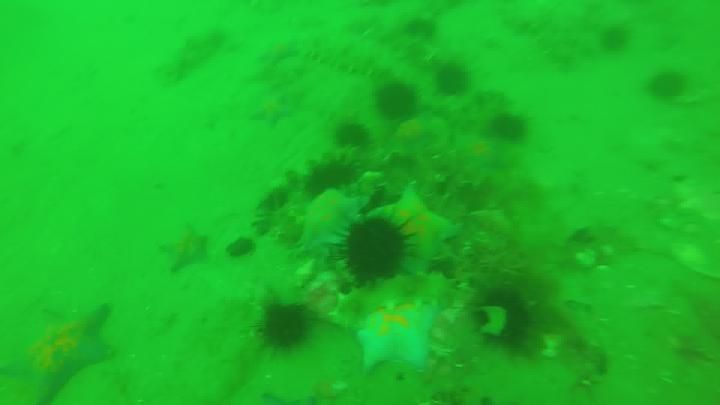echinus: (333, 217, 413, 286), (471, 288, 537, 344), (252, 304, 313, 355), (304, 159, 357, 203), (372, 80, 421, 120), (490, 110, 526, 147), (647, 70, 689, 95), (437, 62, 471, 92), (403, 15, 440, 42), (335, 122, 370, 147), (602, 27, 632, 45)
holothurian: (331, 277, 460, 330), (499, 7, 576, 64), (303, 38, 391, 80)
starfish: (1, 304, 115, 405), (367, 188, 456, 272), (357, 306, 442, 372), (283, 191, 373, 247), (162, 220, 212, 273), (250, 90, 296, 129), (257, 39, 303, 67)
